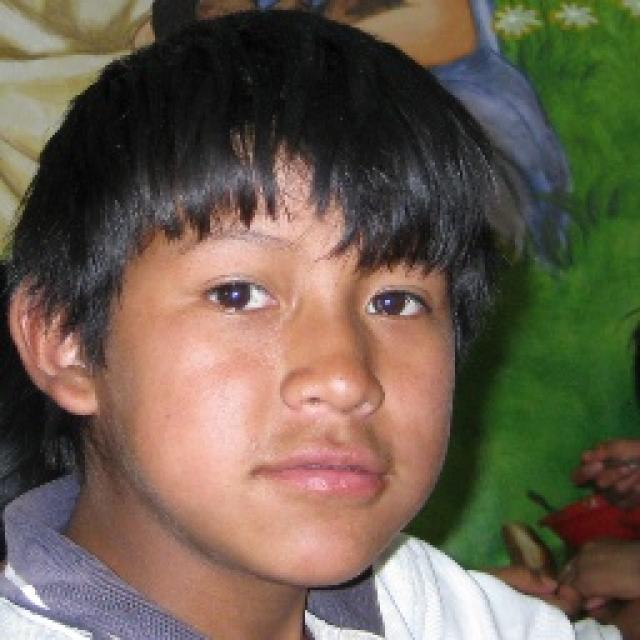earlobe: (54, 366, 100, 417)
eye: (201, 275, 282, 323), (361, 284, 433, 327)
nose: (290, 394, 377, 444)
wholeear: (9, 268, 101, 418)
